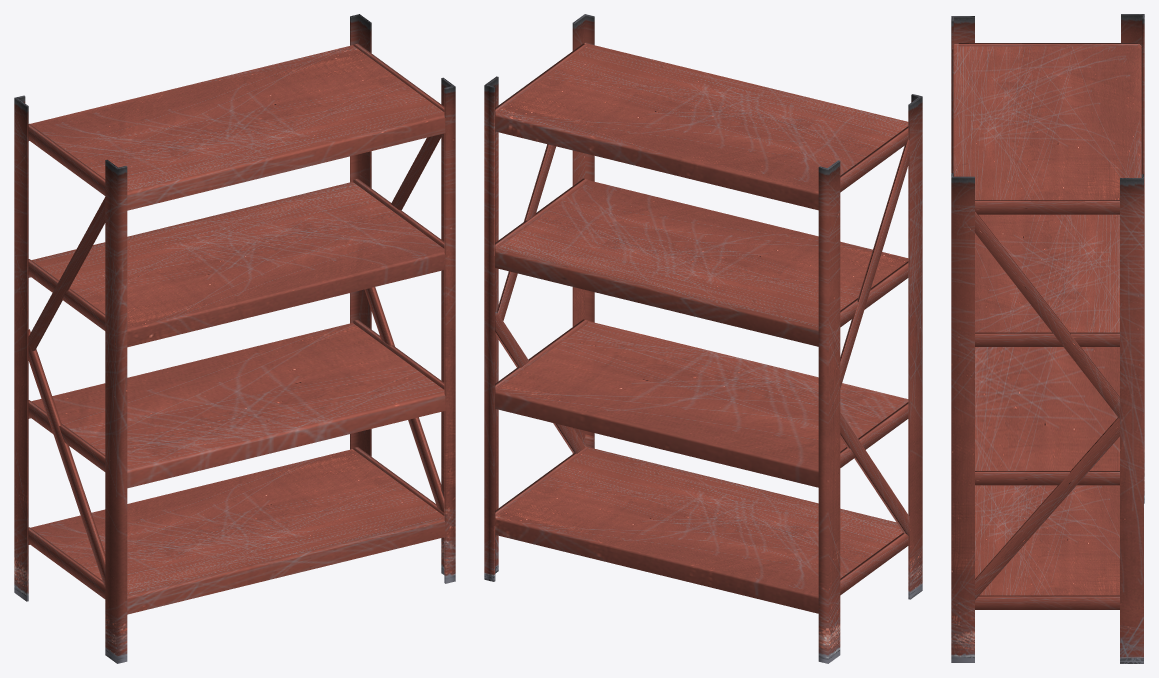
File: shelving.fbx
The picture shows the model from 3 angles, left to right: view 1: azimuth 30°, elevation 25°; view 2: azimuth 150°, elevation 25°; view 3: azimuth 270°, elevation 25°; orthographic projection. The views are drawn at different scales.
Visible parts, largest first — view 1: metalShelving; view 2: metalShelving; view 3: metalShelving.
Boxes of the visible parts, x1,y1,x2,y2 form: metalShelving: (14,14,455,663); metalShelving: (484,14,922,663); metalShelving: (951,14,1144,663).
Size of the model in its own units: 1.46 by 2 by 0.723.
